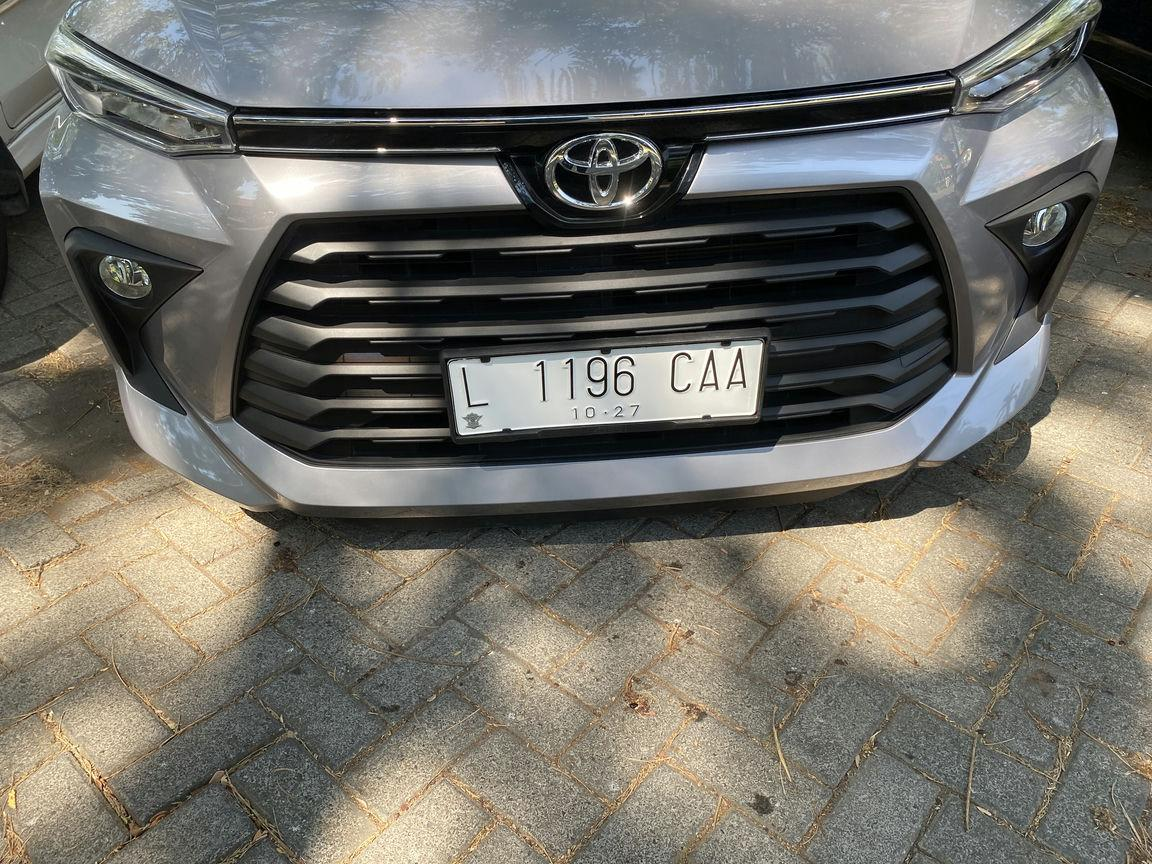plat: (449, 341, 765, 439)
